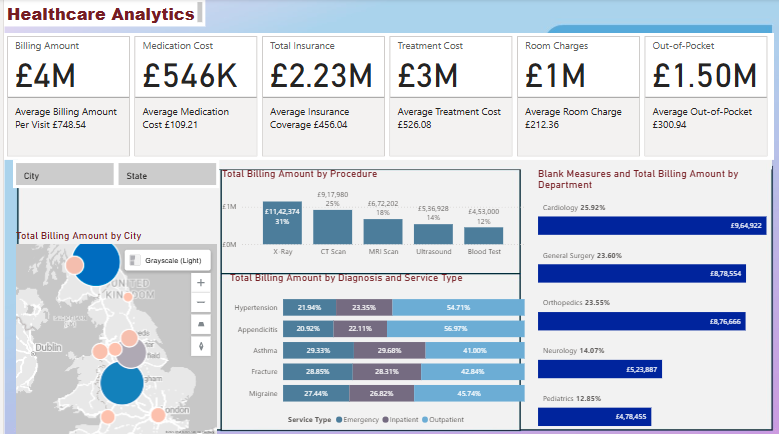

What the dashboard file says about the page in this screenshot:
{"tool":"powerbi","page":{"name":"Healthcare Provider Dashboard","canvas":[1280,720],"ordinal":0},"visuals":[{"type":"cardVisual","fields":{"Data":["DAX Calculation.Total Billing Amount","DAX Calculation.Total Medication Cost","DAX Calculation.Total Insurance Covered","DAX Calculation.Total Treatment Cost","DAX Calculation.Total Room Charges","DAX Calculation.Out-of-Pocket"]},"box":[0,56.1,1261.9,207.8],"z":0},{"type":"azureMap","fields":{"Category":["cities.City","cities.State"],"Size":["DAX Calculation.Total Billing Amount"]},"box":[14.8,377,339.3,342.5],"z":1000},{"type":"advancedSlicerVisual","fields":{"Values":["Patient Location Switch.Patient Location Switch"]},"box":[14.8,263.9,338.1,46.2],"z":2000},{"type":"clusteredColumnChart","fields":{"Category":["procedures.Procedure"],"Y":["DAX Calculation.Total Billing Amount"]},"box":[353,275.5,506.4,156.7],"z":3000},{"type":"hundredPercentStackedBarChart","fields":{"Y":["DAX Calculation.Total Billing Amount"],"Category":["diagnoses.Diagnosis"],"Series":["visits.Service Type"]},"box":[365.5,445.8,493.3,262.2],"z":4000},{"type":"clusteredBarChart","fields":{"Category":["departments.Department"],"Y":["DAX Calculation.Blank Measures","DAX Calculation.Total Billing Amount"]},"box":[870.9,275.5,409.1,432.2],"z":5000},{"type":"textbox","box":[0,0,329.9,44.5],"z":6001}]}

Visuals, with their boxes in screenshot pixels (x1, y1, x2, y2), scaled from the page's 1280x720 canvas onto the 779x434 screenshot:
cardVisual - DAX Calculation.Total Billing Amount x DAX Calculation.Total Medication Cost: box=[0, 34, 768, 159]
azureMap - cities.City x cities.State: box=[9, 227, 216, 433]
advancedSlicerVisual - Patient Location Switch.Patient Location Switch: box=[9, 159, 215, 187]
clusteredColumnChart - procedures.Procedure x DAX Calculation.Total Billing Amount: box=[215, 166, 523, 261]
hundredPercentStackedBarChart - DAX Calculation.Total Billing Amount x diagnoses.Diagnosis: box=[222, 269, 523, 427]
clusteredBarChart - departments.Department x DAX Calculation.Blank Measures: box=[530, 166, 778, 427]
textbox: box=[0, 0, 201, 27]
